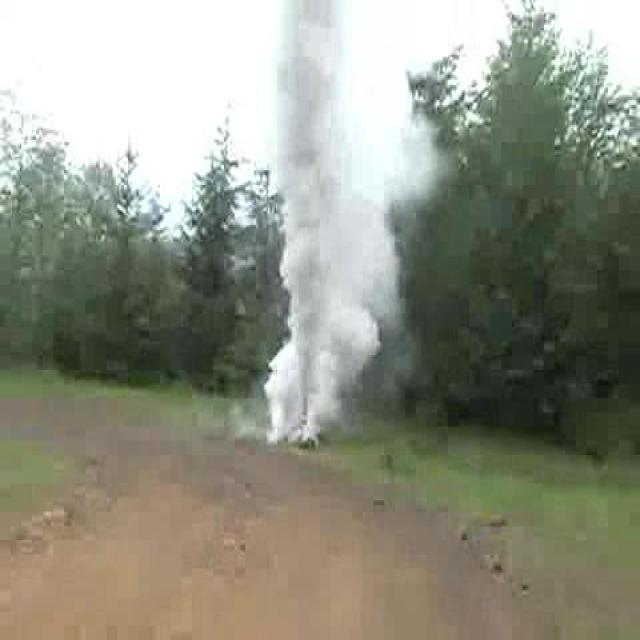Smoke: (278, 4, 395, 453)
